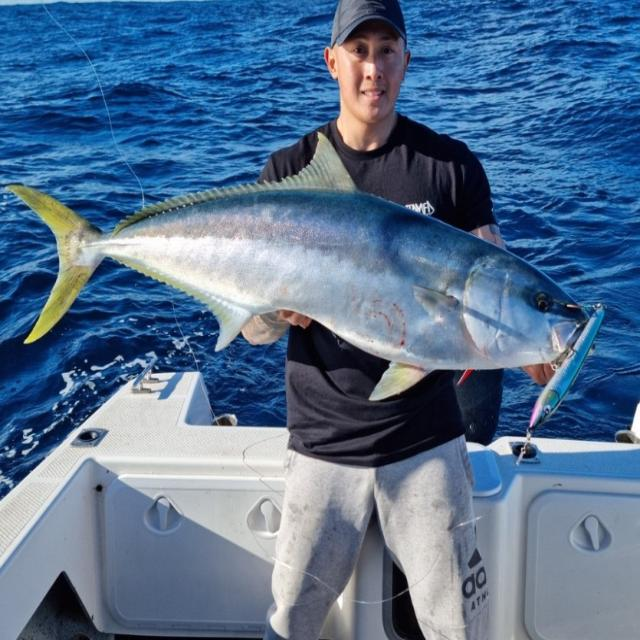Kingfish: (5, 169, 598, 370)
